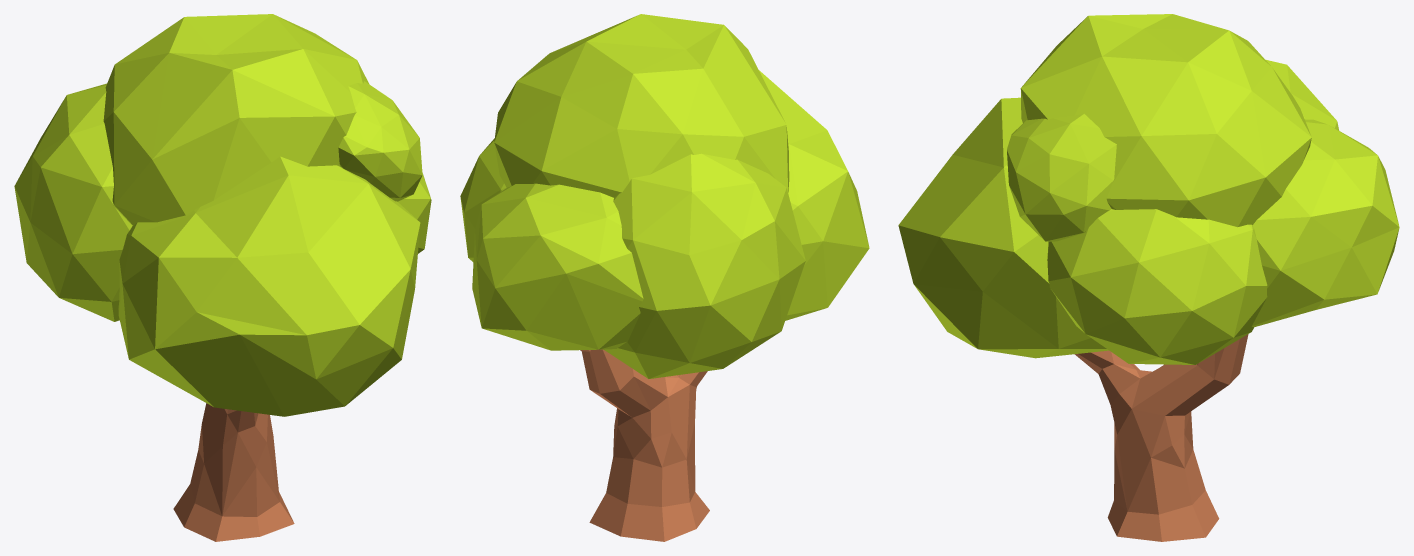
File: Tree2.fbx
3 views of the same model, side by side, from view 1: azimuth 30°, elevation 25°; view 2: azimuth 150°, elevation 25°; view 3: azimuth 270°, elevation 25° (orthographic).
Visible parts, largest first — view 1: Tree2; view 2: Tree2; view 3: Tree2.
Boxes of the visible parts, x1=… form: Tree2: x1=14, y1=14, x2=431, y2=541; Tree2: x1=460, y1=14, x2=869, y2=541; Tree2: x1=898, y1=14, x2=1399, y2=541.
Bounding box in the file's own units: 1003 × 1337 × 1255.
